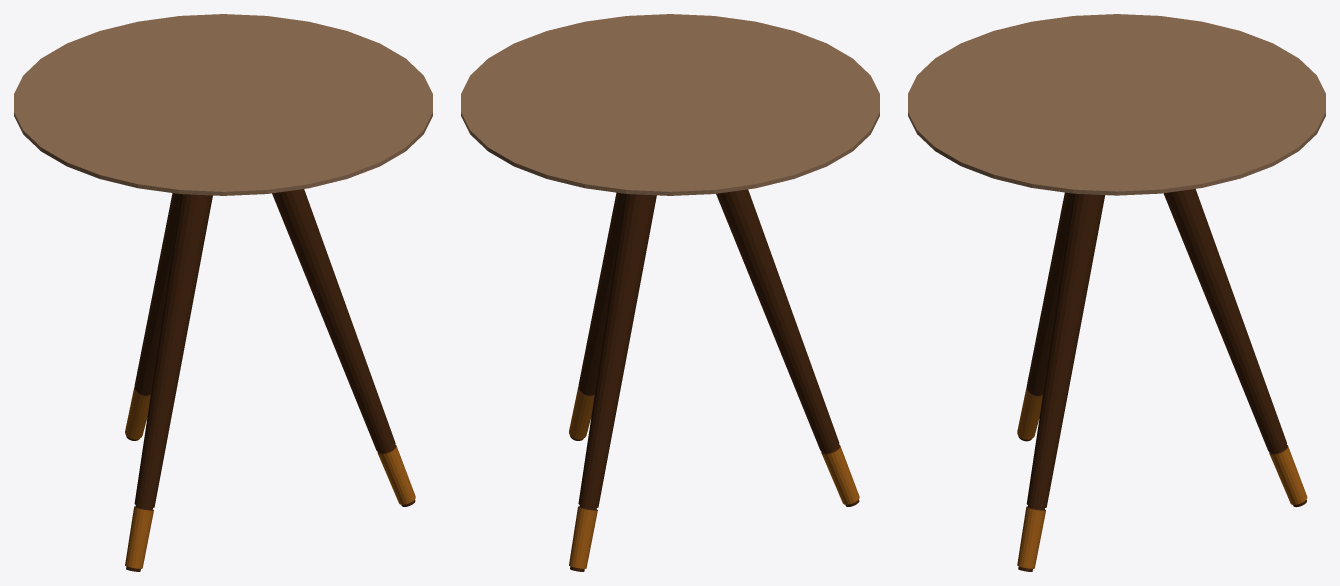
Rendered from side-table.glb.
The picture shows the model from 3 angles, left to right: view 1: azimuth 30°, elevation 25°; view 2: azimuth 150°, elevation 25°; view 3: azimuth 270°, elevation 25°; orthographic projection.
Bounding box in the file's own units: 0.5 × 0.528 × 0.4973.
